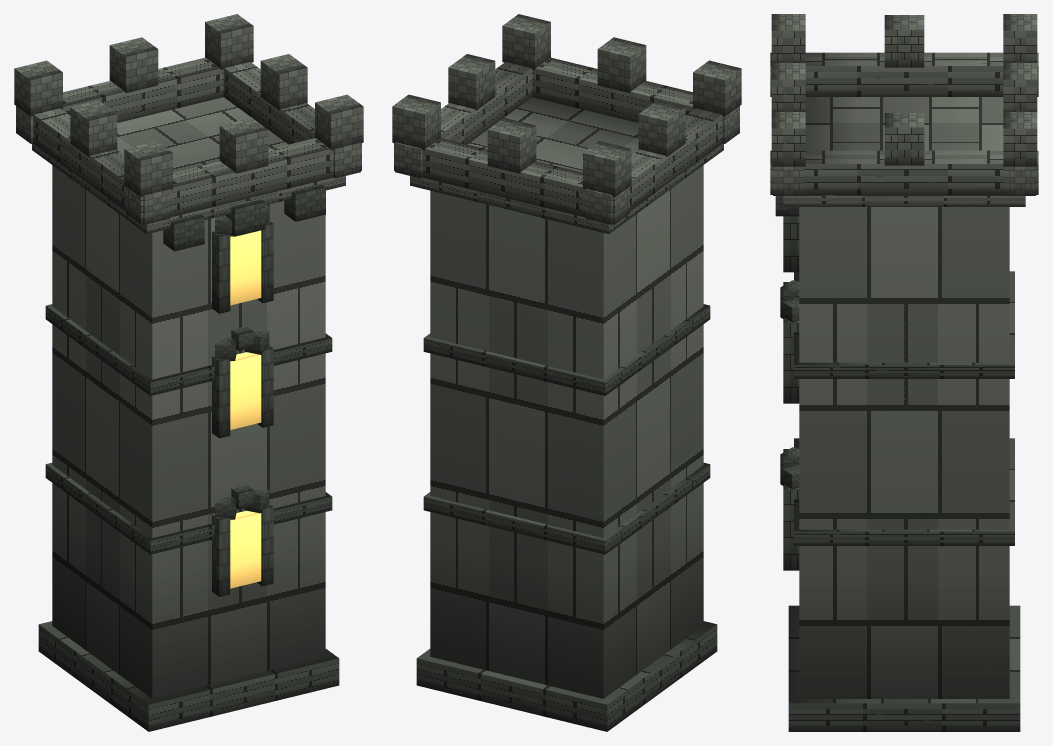
File: tower_square_tall_dark.gltf
3 renders of one model, left to right at view 1: azimuth 30°, elevation 25°; view 2: azimuth 150°, elevation 25°; view 3: azimuth 270°, elevation 25°, orthographic. The views are drawn at different scales.
Visible parts, largest first — view 1: tower_square_tall_dark; view 2: tower_square_tall_dark; view 3: tower_square_tall_dark.
Boxes of the visible parts, x1,y1,x2,y2 form: tower_square_tall_dark: (14, 14, 363, 731); tower_square_tall_dark: (392, 14, 741, 731); tower_square_tall_dark: (770, 14, 1038, 731).
Bounding box in the file's own units: 1.03 × 2.56 × 1.02.
1 material, 1 textured.
